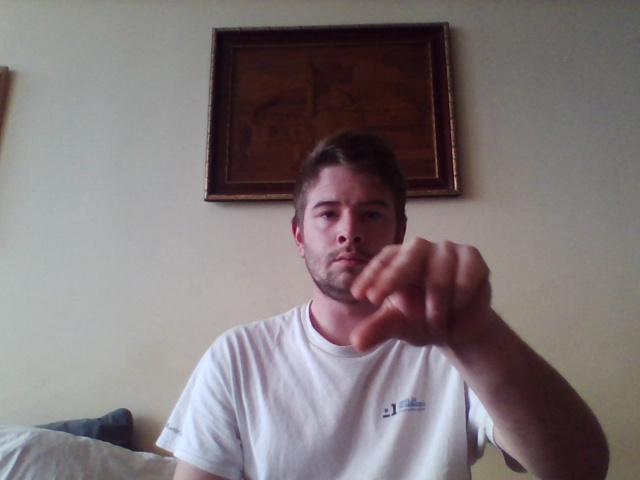ne: (349, 237, 496, 358)
